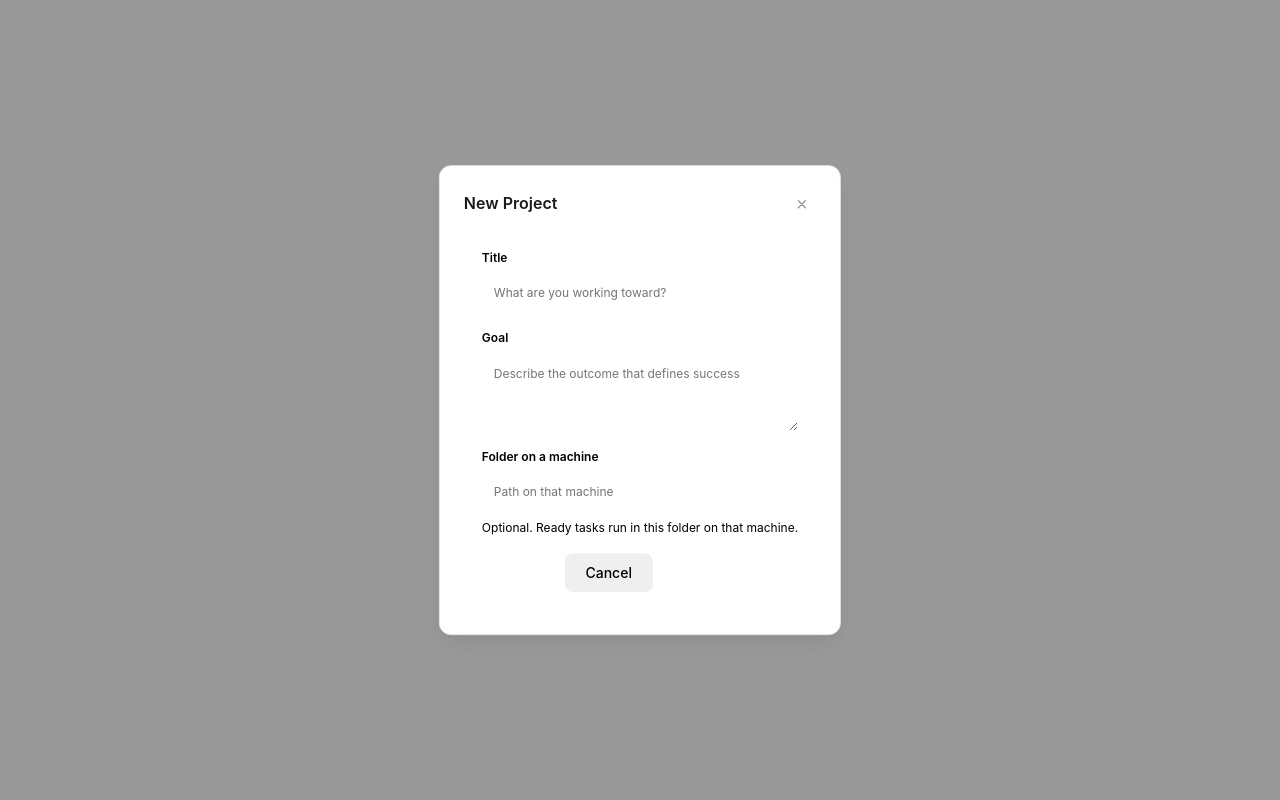
Test: ProjectCreateDialog › refuses a folder with no machine to hold it
This screenshot has width=1280, height=800.
Type "Homeless" into the field with placeholder "What are you working toward?" at (640, 293), box 482,273 -> 798,312
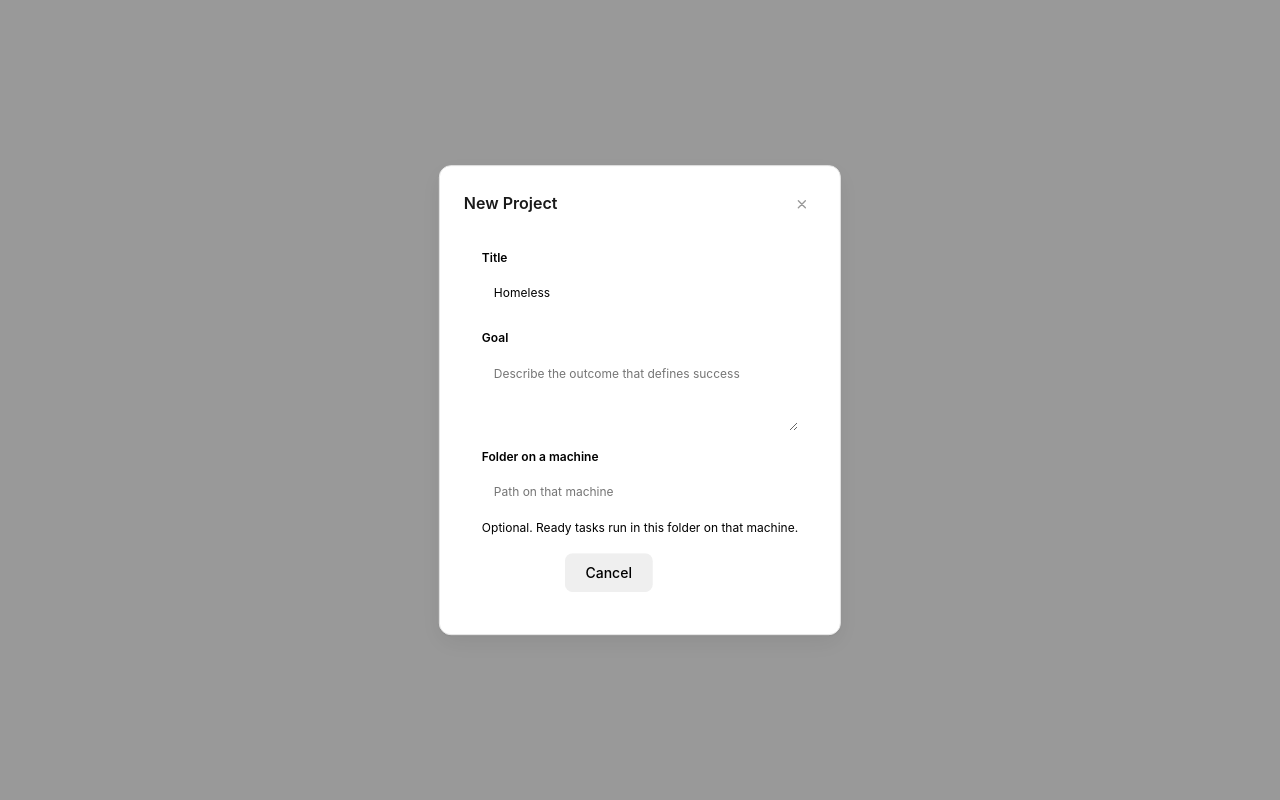
Type "/tmp/work" into the field with placeholder "Path on that machine" at (640, 492), box 482,472 -> 798,512
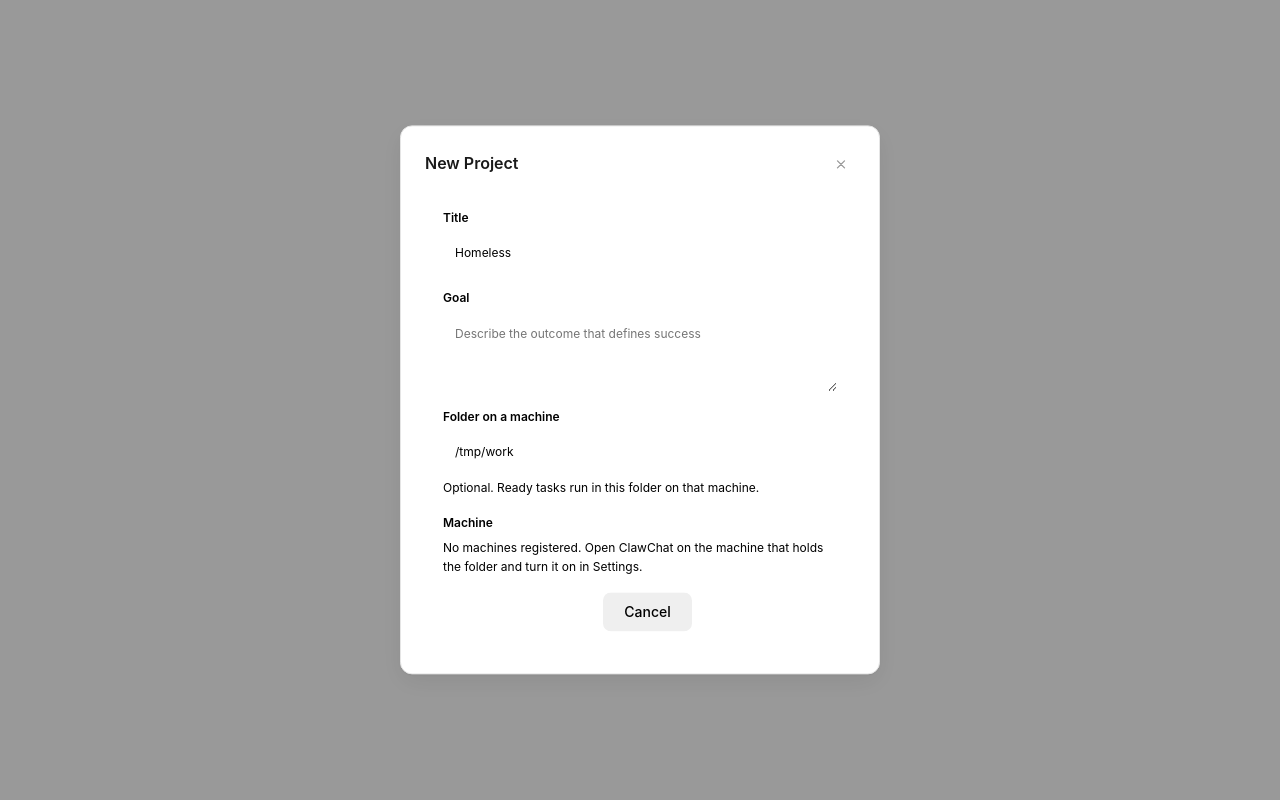
Now the text "No machines registered" is shown, box 443,540 -> 823,574
